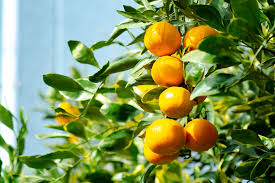orange: (143, 116, 187, 154), (141, 22, 180, 55), (147, 56, 185, 87), (183, 117, 217, 151), (182, 24, 220, 53), (160, 85, 193, 116)
